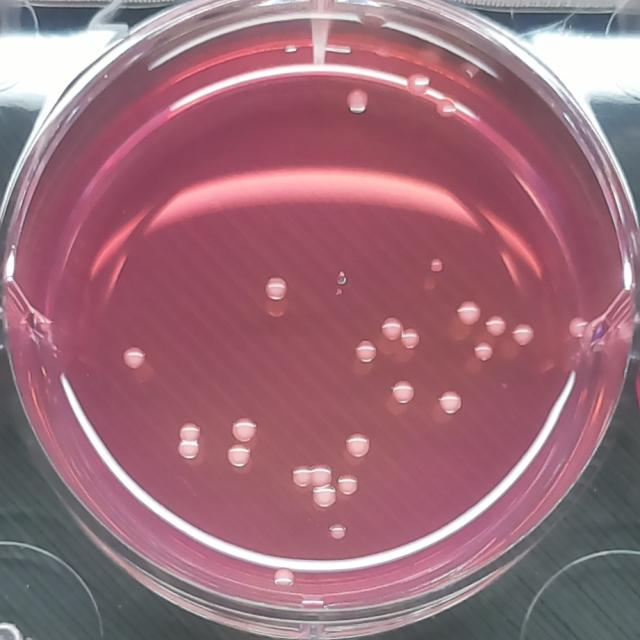Bacillus: (171, 414, 206, 465), (259, 269, 294, 309), (340, 84, 374, 121), (342, 427, 375, 464), (452, 294, 485, 331), (351, 333, 382, 368), (118, 344, 150, 376), (389, 376, 418, 410), (224, 439, 254, 471), (436, 389, 465, 418), (404, 69, 433, 98), (432, 95, 461, 124), (231, 416, 259, 444), (509, 321, 538, 348), (470, 338, 497, 365), (399, 325, 425, 353), (309, 461, 335, 489), (312, 483, 338, 510), (483, 312, 508, 340), (565, 314, 591, 340), (335, 472, 361, 498), (380, 314, 404, 342), (289, 464, 313, 489), (327, 520, 348, 543), (426, 255, 447, 277)
